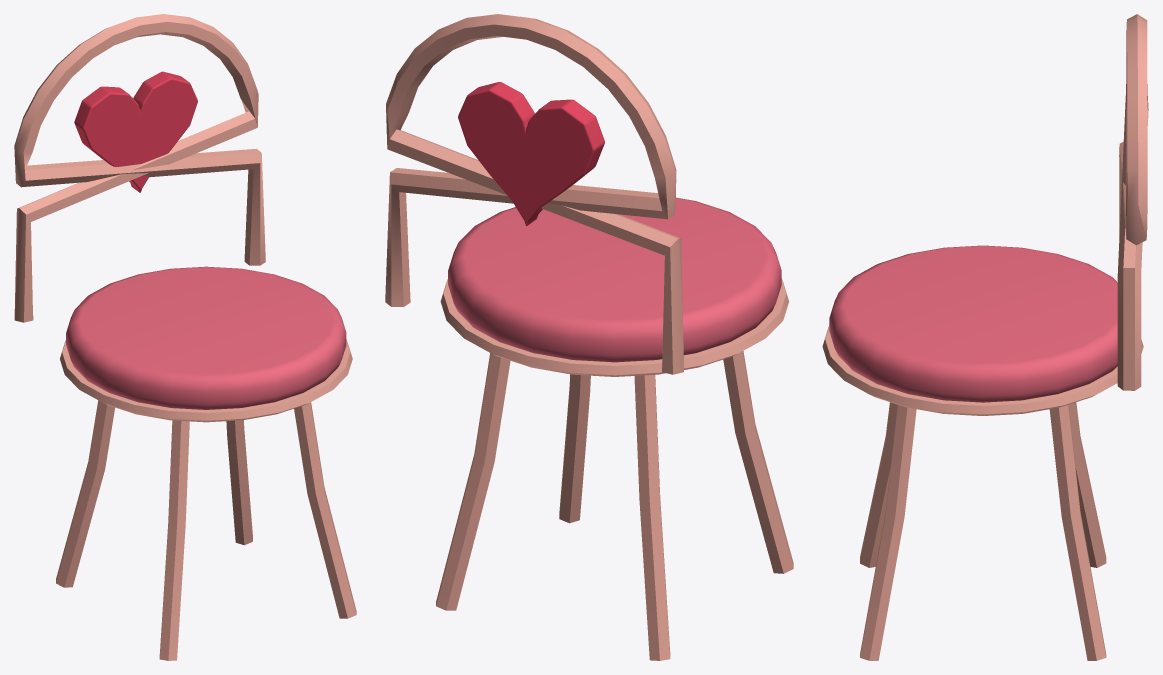
Rendered from chair_bistro_curvy.glb.
The picture shows the model from 3 angles, left to right: view 1: azimuth 30°, elevation 25°; view 2: azimuth 150°, elevation 25°; view 3: azimuth 270°, elevation 25°; orthographic projection. The views are drawn at different scales.
Visible parts, largest first — view 1: chair_bistro_curvy; view 2: chair_bistro_curvy; view 3: chair_bistro_curvy.
Boxes of the visible parts, x1,y1,x2,y2 form: chair_bistro_curvy: (14,14,356,660); chair_bistro_curvy: (385,14,793,660); chair_bistro_curvy: (822,14,1148,660).
Bounding box in the file's own units: 0.439 × 0.8795 × 0.4455.
